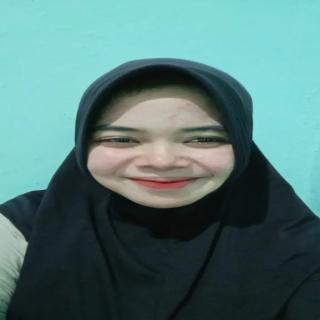Senang: (80, 74, 252, 216)
